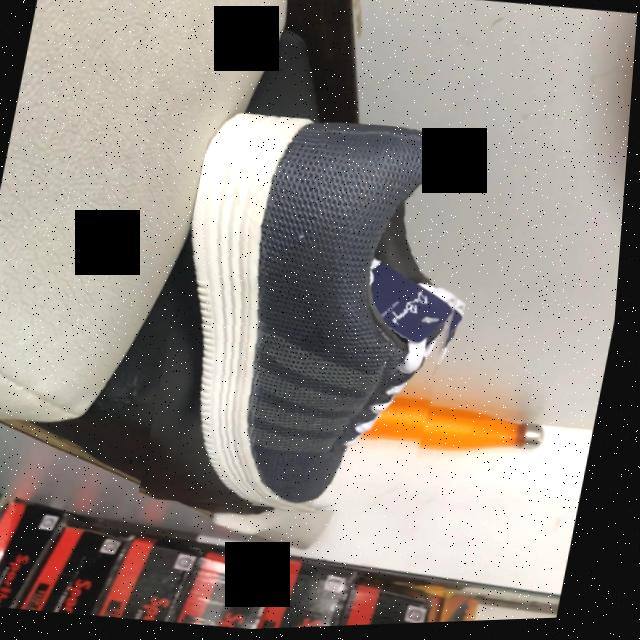shoe: (194, 115, 461, 511)
